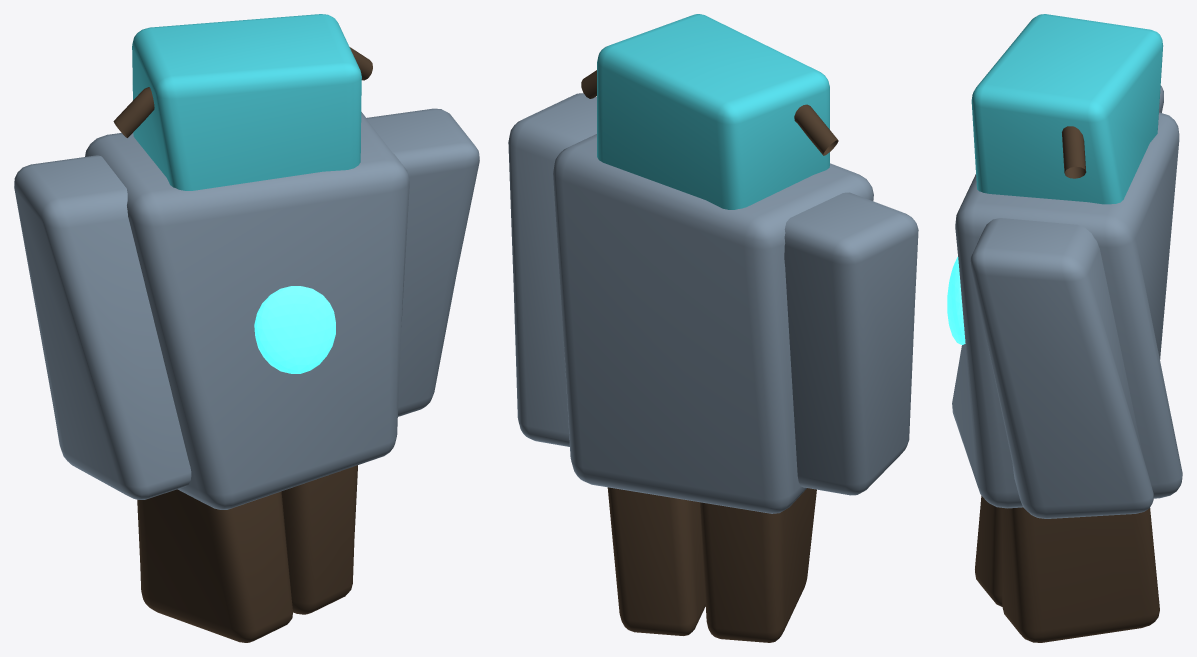
The model's file is construct_v8.glb.
3 renders of one model, left to right at view 1: azimuth 30°, elevation 25°; view 2: azimuth 150°, elevation 25°; view 3: azimuth 270°, elevation 25°, orthographic.
Parts seen in each view (by area): view 1: GOLEM_TORSO_PRIMARY, GOLEM_ARM_PRIMARY, GOLEM_HEAD_ACCENT, GOLEM_LEG_SECONDARY, GOLEM_ARM_PRIMARY.001, GOLEM_LEG_SECONDARY.001, GOLEM_CORE_EMISSIVE, SWEEP_ANTLER_SECONDARY; view 2: GOLEM_TORSO_PRIMARY, GOLEM_ARM_PRIMARY, GOLEM_HEAD_ACCENT, GOLEM_ARM_PRIMARY.001, GOLEM_LEG_SECONDARY, GOLEM_LEG_SECONDARY.001, SWEEP_ANTLER_SECONDARY; view 3: GOLEM_ARM_PRIMARY.001, GOLEM_TORSO_PRIMARY, GOLEM_HEAD_ACCENT, GOLEM_LEG_SECONDARY.001, GOLEM_LEG_SECONDARY, SWEEP_ANTLER_SECONDARY.001, GOLEM_CORE_EMISSIVE.
Boxes of the visible parts, <box> form: GOLEM_TORSO_PRIMARY: <box>85,112,409,509</box>; GOLEM_ARM_PRIMARY: <box>14,155,191,499</box>; GOLEM_HEAD_ACCENT: <box>132,14,361,190</box>; GOLEM_LEG_SECONDARY: <box>137,489,292,642</box>; GOLEM_ARM_PRIMARY.001: <box>366,108,479,416</box>; GOLEM_LEG_SECONDARY.001: <box>281,465,357,614</box>; GOLEM_CORE_EMISSIVE: <box>254,286,335,373</box>; SWEEP_ANTLER_SECONDARY: <box>113,87,154,137</box>; GOLEM_TORSO_PRIMARY: <box>553,134,873,513</box>; GOLEM_ARM_PRIMARY: <box>784,192,918,495</box>; GOLEM_HEAD_ACCENT: <box>597,14,829,209</box>; GOLEM_ARM_PRIMARY.001: <box>508,93,596,446</box>; GOLEM_LEG_SECONDARY: <box>700,488,816,642</box>; GOLEM_LEG_SECONDARY.001: <box>607,487,705,635</box>; SWEEP_ANTLER_SECONDARY: <box>794,104,838,155</box>; GOLEM_ARM_PRIMARY.001: <box>970,218,1153,518</box>; GOLEM_TORSO_PRIMARY: <box>952,112,1182,508</box>; GOLEM_HEAD_ACCENT: <box>971,14,1163,204</box>; GOLEM_LEG_SECONDARY.001: <box>1001,507,1159,642</box>; GOLEM_LEG_SECONDARY: <box>975,495,1002,606</box>; SWEEP_ANTLER_SECONDARY.001: <box>1062,126,1086,178</box>; GOLEM_CORE_EMISSIVE: <box>947,257,965,344</box>.
Size of the model in its own units: 2.33 by 3.06 by 1.19.
